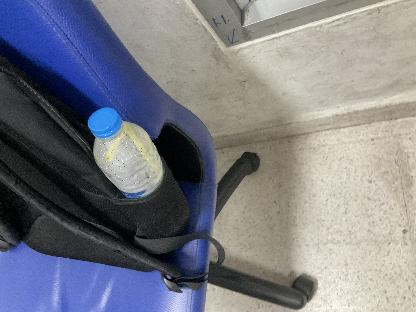Plastic Bottle: (86, 104, 169, 202)
